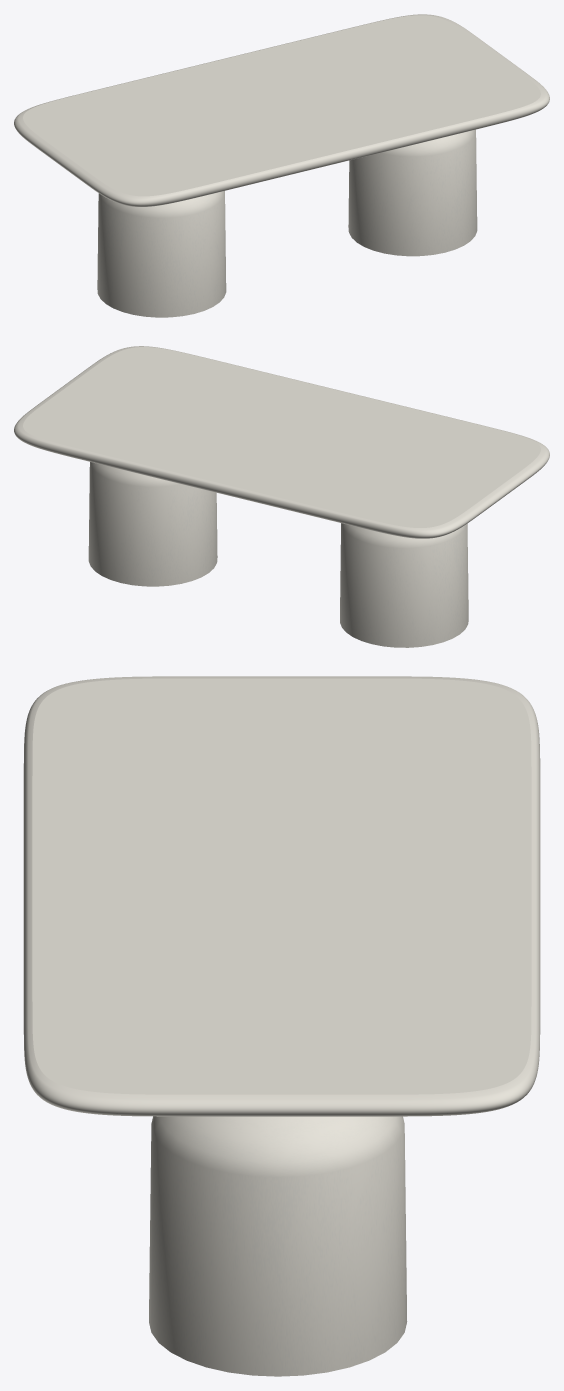
File: pale_softrecta_round_tornado.glb
3 renders of one model, top to bottom at view 1: azimuth 30°, elevation 25°; view 2: azimuth 150°, elevation 25°; view 3: azimuth 270°, elevation 25°, orthographic. The views are drawn at different scales.
Visible parts, largest first — view 1: round_softrecta, tornado; view 2: round_softrecta, tornado; view 3: round_softrecta, tornado.
Boxes of the visible parts, x1,y1,x2,y2 form: round_softrecta: [14, 14, 549, 206]; tornado: [97, 129, 477, 317]; round_softrecta: [14, 346, 549, 538]; tornado: [88, 462, 468, 647]; round_softrecta: [23, 676, 540, 1116]; tornado: [149, 1116, 407, 1376].
Size of the model in its own units: 7.5 by 2.5 by 3.8.
1 material, 1 textured.
